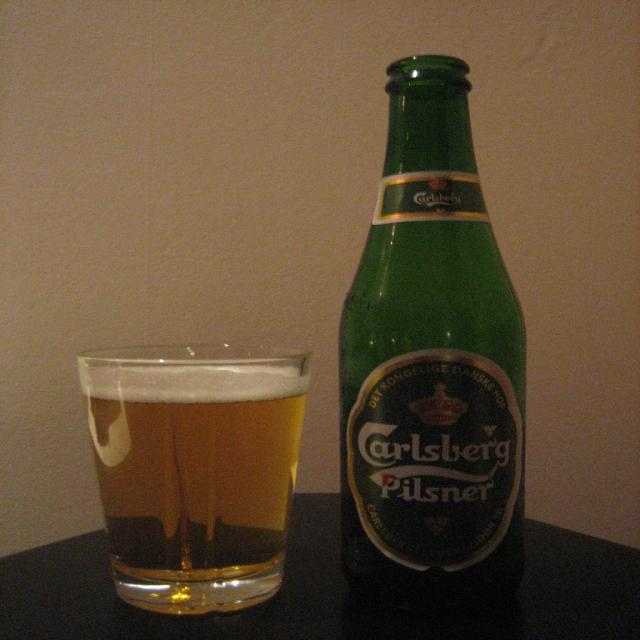carlsberg: (343, 349, 529, 571), (409, 174, 471, 223)
